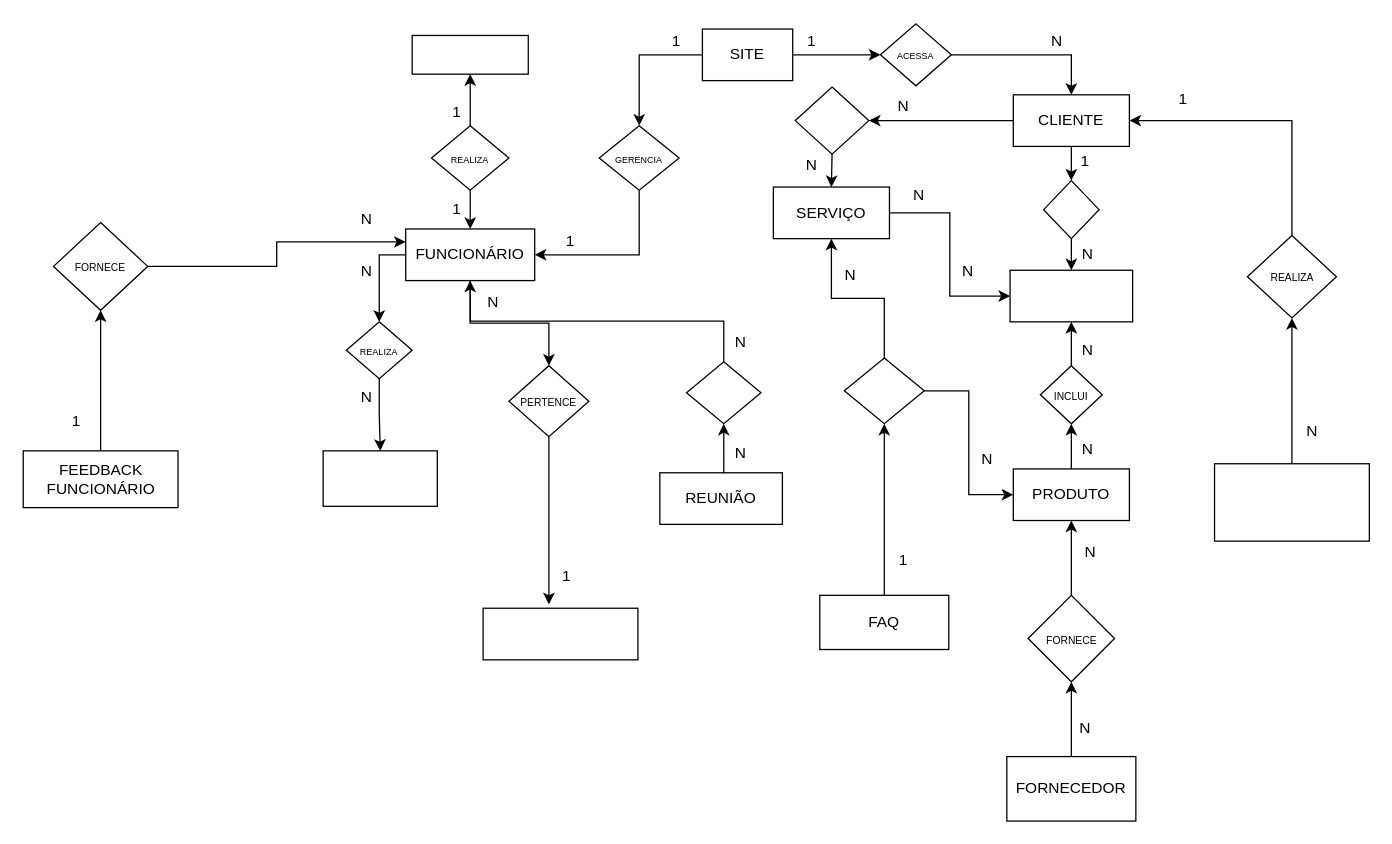
This 1392x844 diagram has some shape labels left out. The centre of each missing label's shape, as x and y in pixels:
"ATENDIMENTO AO CLIENTE" goes at point (1291, 501).
"CONTRATA" goes at point (831, 120).
"DEPARTAMENTO" goes at point (560, 633).
"FAZ" goes at point (1070, 209).
"LOGIN" goes at point (469, 54).
"PARTICIPA" goes at point (723, 392).
"PEDIDO" goes at point (1071, 295).
"RESPONDE" goes at point (883, 390).
"TAREFA" goes at point (379, 478).
